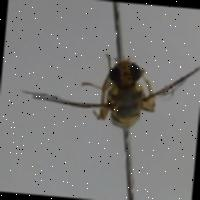Oriental-fruit-fly: (17, 34, 200, 148)
